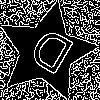D: (21, 26, 77, 84)
